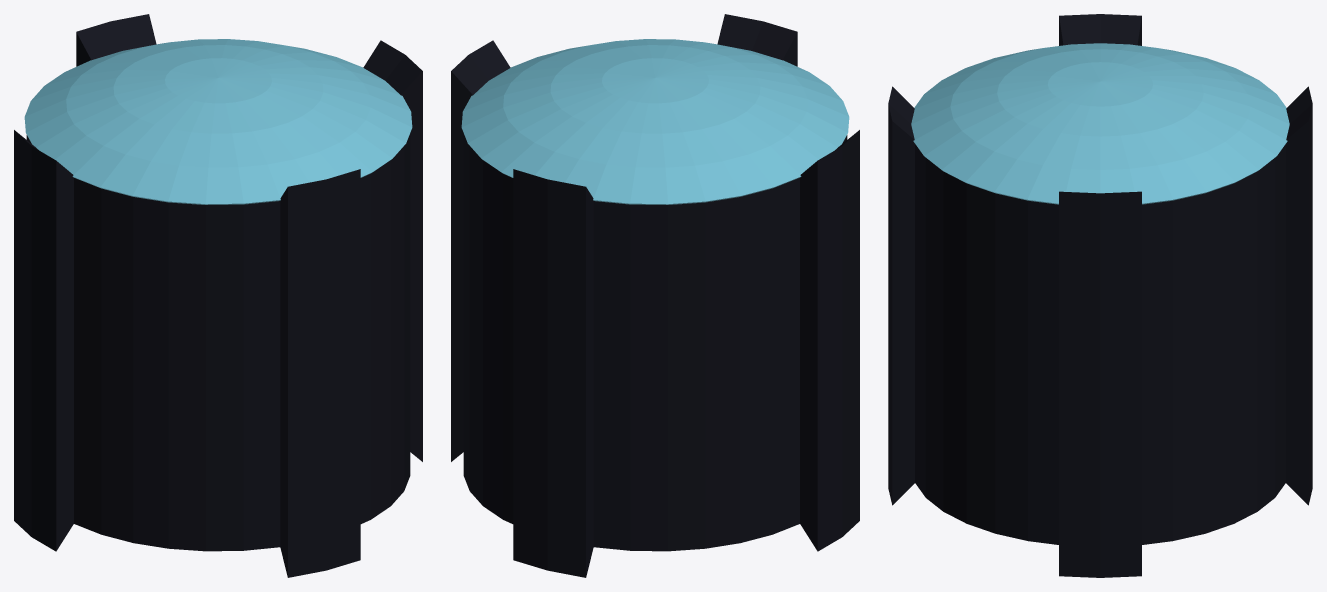
The model's file is LampBlue.fbx.
The picture shows the model from 3 angles, left to right: view 1: azimuth 30°, elevation 25°; view 2: azimuth 150°, elevation 25°; view 3: azimuth 270°, elevation 25°; orthographic projection.
Parts seen in each view (by area): view 1: Cylinder.001, Sphere; view 2: Cylinder.001, Sphere; view 3: Cylinder.001, Sphere.
Part boxes in pixels (bbox=[...]): Cylinder.001: bbox=[14, 14, 422, 577]; Sphere: bbox=[24, 39, 412, 204]; Cylinder.001: bbox=[451, 14, 859, 577]; Sphere: bbox=[461, 39, 849, 204]; Cylinder.001: bbox=[888, 14, 1312, 577]; Sphere: bbox=[911, 43, 1289, 204].
Bounding box in the file's own units: 224 × 224 × 237.
